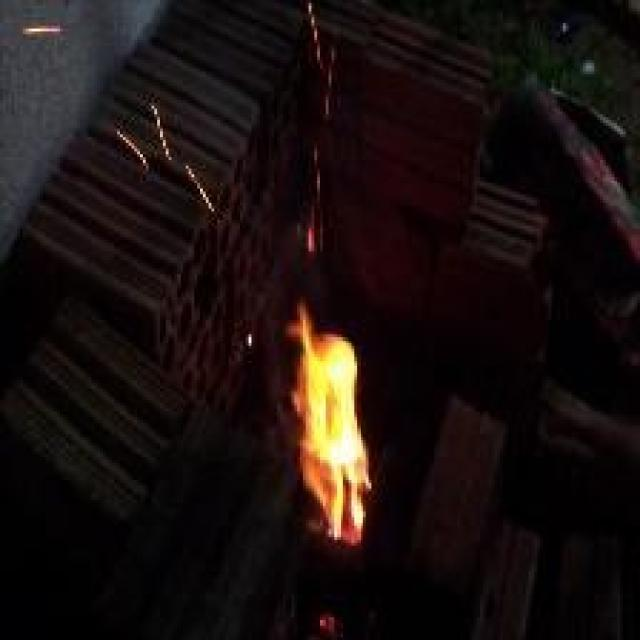fire: (231, 51, 420, 543)
